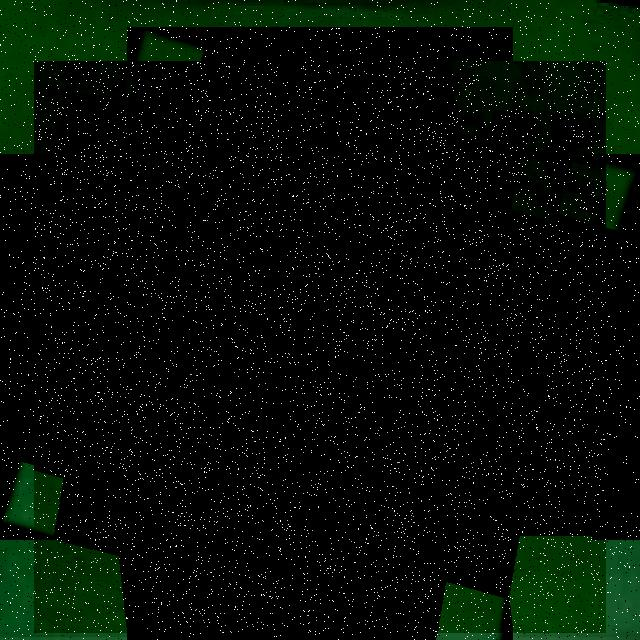dua ribu rupiah: (34, 61, 606, 633)
